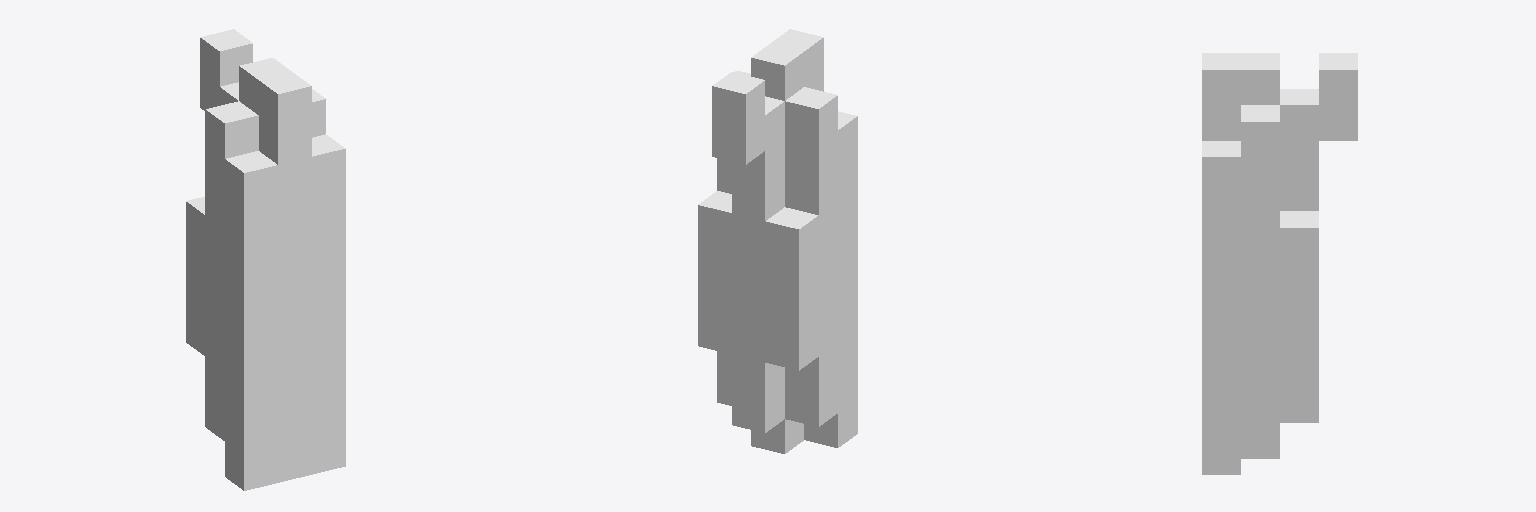
File: Hand.obj
The picture shows the model from 3 angles: view 1: azimuth 30°, elevation 25°; view 2: azimuth 150°, elevation 25°; view 3: azimuth 270°, elevation 25°; orthographic projection.
Visible parts, largest first — view 1: object 1; view 2: object 1; view 3: object 1.
Part boxes in pixels (x1,y1,x2,y2): object 1: (186, 29, 345, 490); object 1: (698, 29, 857, 453); object 1: (1202, 53, 1357, 474).
Size of the model in its own units: 0.3 by 1.1 by 0.4.